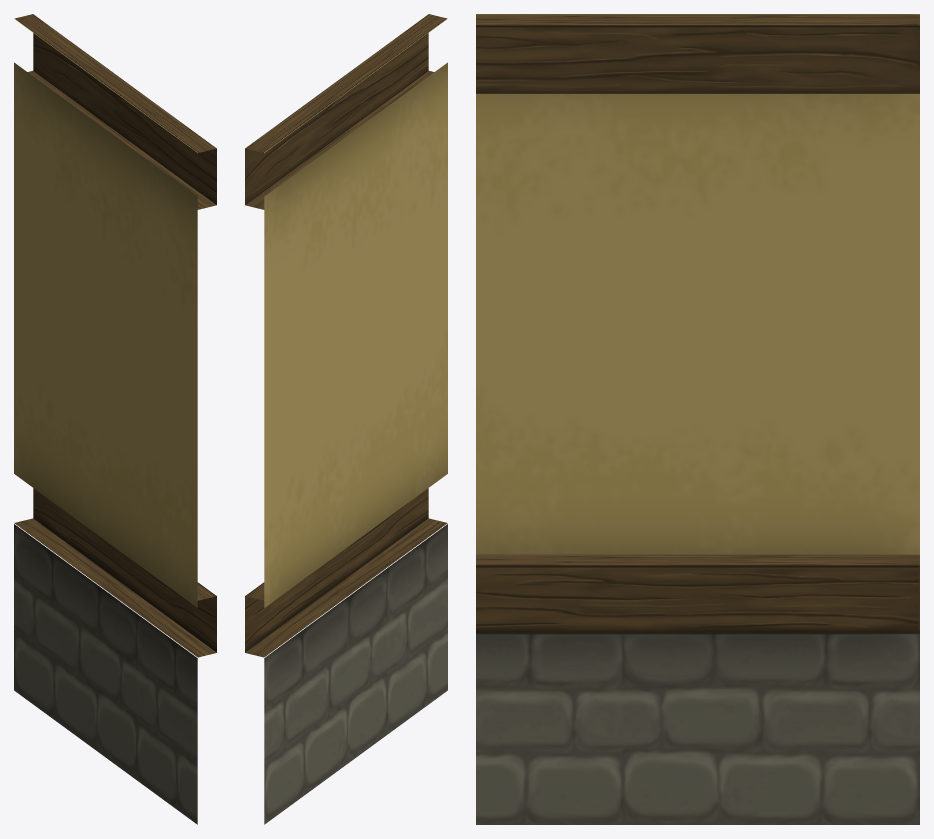
File: sciana_02.fbx
3 views of the same model, side by side, from view 1: azimuth 30°, elevation 25°; view 2: azimuth 150°, elevation 25°; view 3: azimuth 270°, elevation 25° (orthographic). The views are drawn at different scales.
Parts seen in each view (by area): view 1: Plane; view 2: Plane; view 3: Plane.
Boxes of the visible parts, left/top/right/bottom form: Plane: left=14, top=14, right=216, bottom=824; Plane: left=245, top=14, right=447, bottom=824; Plane: left=476, top=14, right=919, bottom=824.
Bounding box in the file's own units: 27.11 × 908 × 450.
